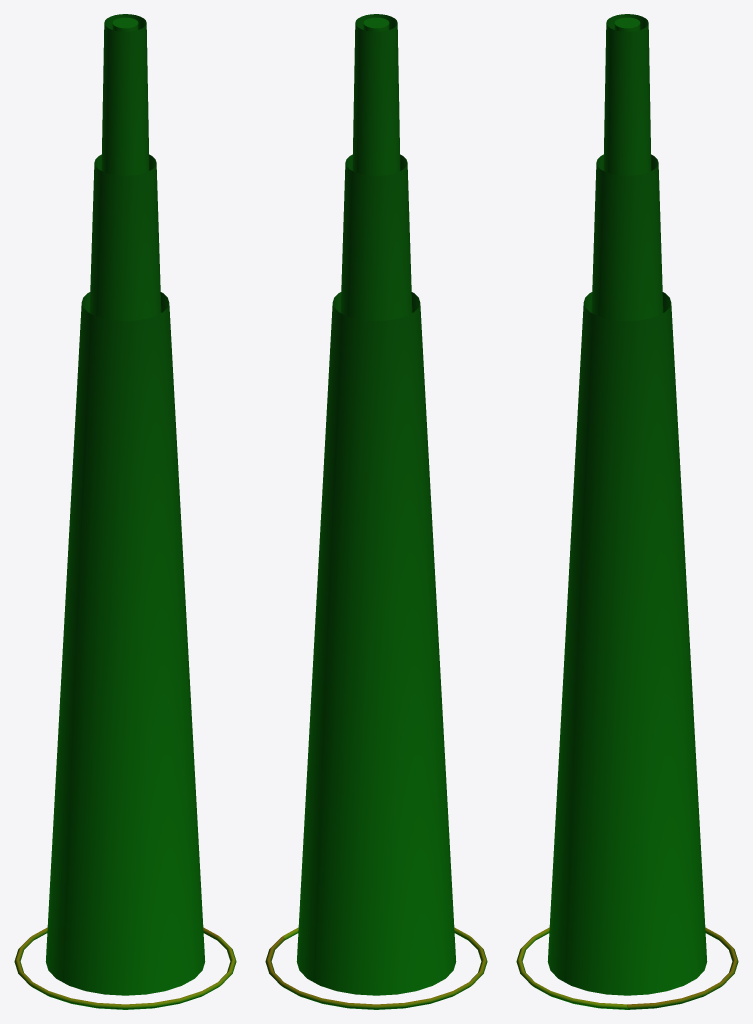
File: heart_column.glb
3 renders of one model, left to right at view 1: azimuth 30°, elevation 25°; view 2: azimuth 150°, elevation 25°; view 3: azimuth 270°, elevation 25°, orthographic.
Parts seen in each view (by area): view 1: heart_column; view 2: heart_column; view 3: heart_column.
Boxes of the visible parts, x1,y1,x2,y2 form: heart_column: [14, 14, 236, 1009]; heart_column: [265, 14, 487, 1009]; heart_column: [516, 14, 738, 1009].
Size of what is drawn, in the model's own units: 8.64 by 40.4 by 8.64.
